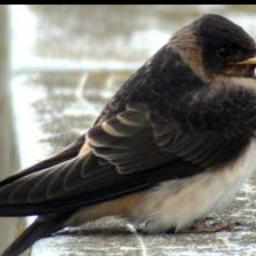Swallow: (0, 11, 256, 256)
